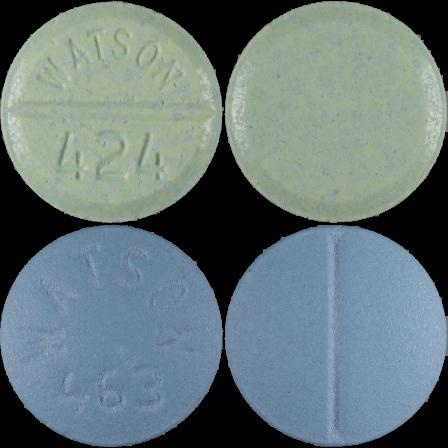55289-090: (0, 0, 224, 224)
